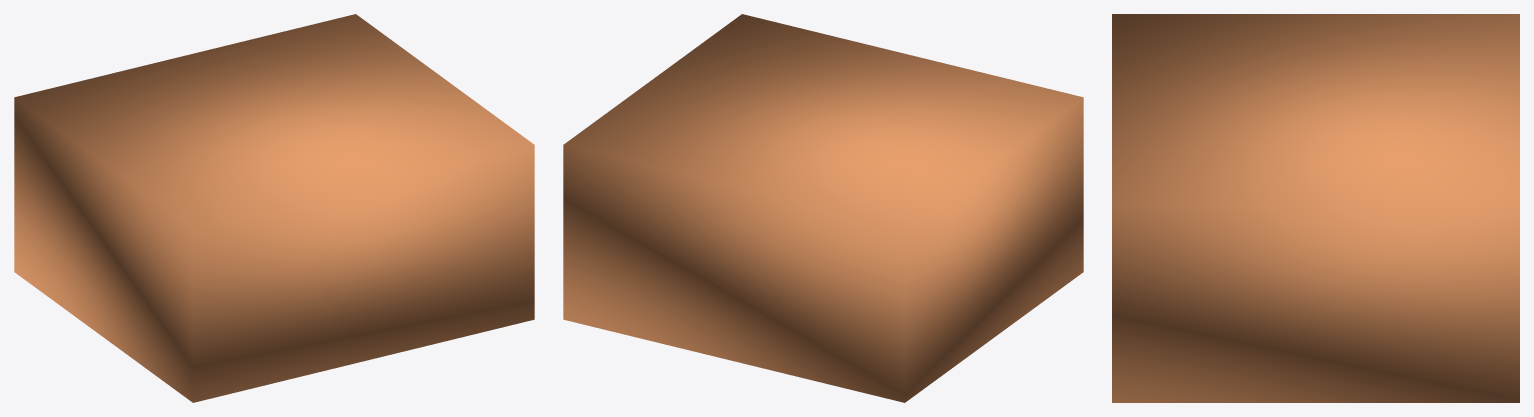
Rendered from kitchenCabinetUpper.obj.
3 views of the same model, side by side, from view 1: azimuth 30°, elevation 25°; view 2: azimuth 150°, elevation 25°; view 3: azimuth 270°, elevation 25° (orthographic). The views are drawn at different scales.
Visible parts, largest first — view 1: kitchenCabinetUpper.002; view 2: kitchenCabinetUpper.002; view 3: kitchenCabinetUpper.002.
Part boxes in pixels (<box>): kitchenCabinetUpper.002: <box>14,14,534,402</box>; kitchenCabinetUpper.002: <box>563,14,1083,402</box>; kitchenCabinetUpper.002: <box>1112,14,1519,402</box>.
Bounding box in the file's own units: 0.43 × 0.22 × 0.39.
